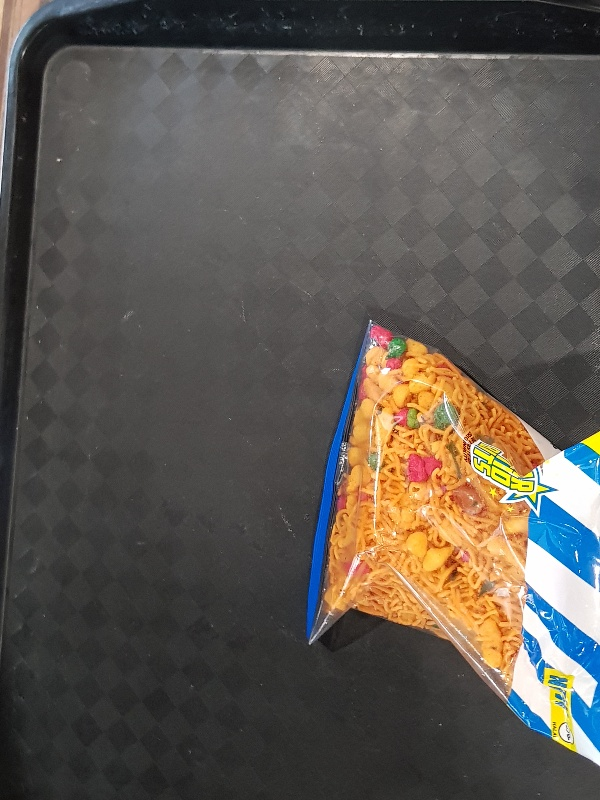Star Tidbits Mixer: (302, 313, 600, 763)
